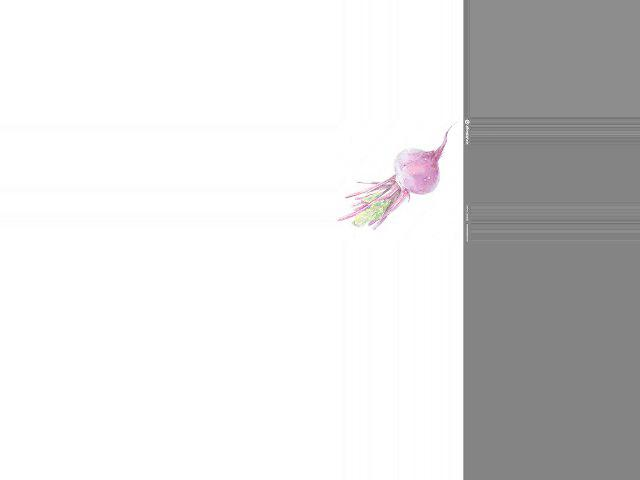beet: (336, 122, 457, 230)
